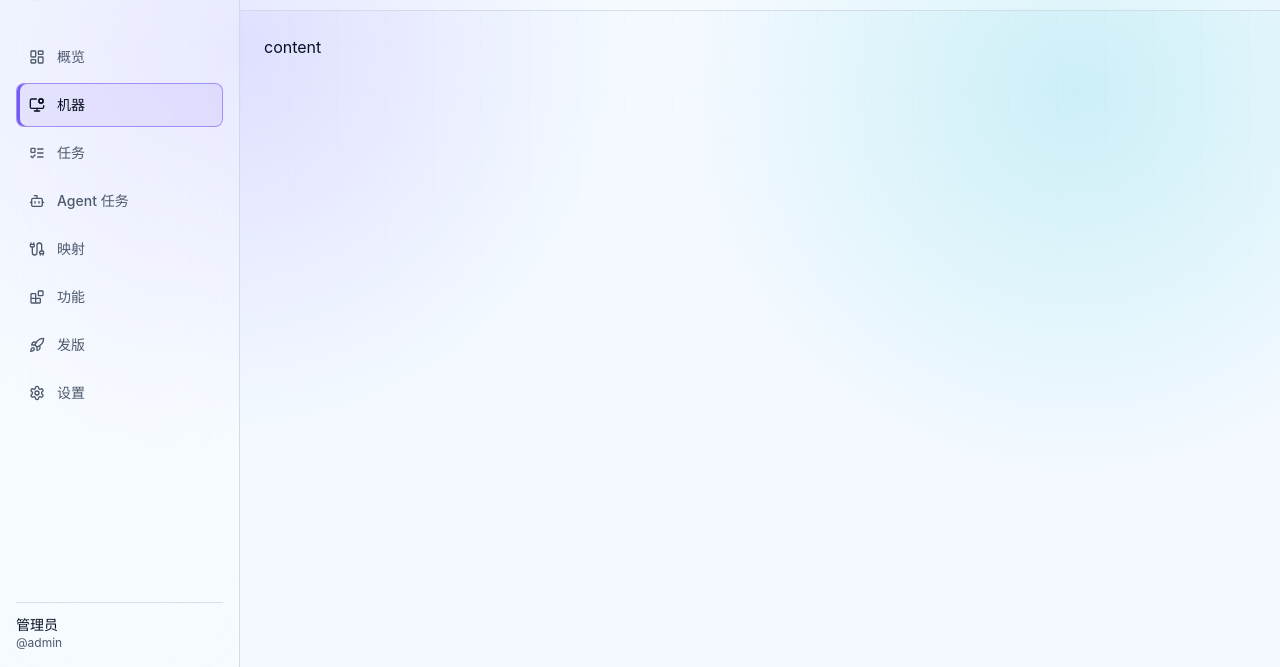
ConsoleShell › replaces level-one navigation with module sub-navigation and offers Back
What coordinates should you click on to do the following:
click the link "设置"
I would click on:
 (57, 392)
Its box is [29, 384, 85, 401].
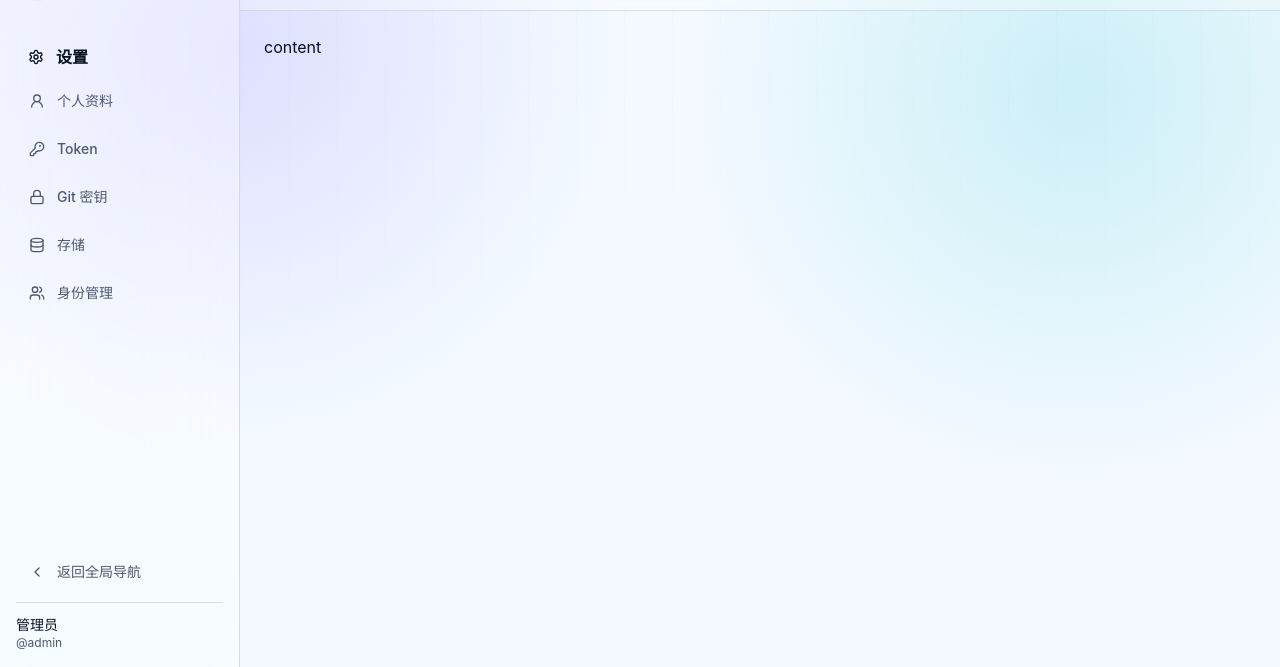
expect the navigation bar "主导航" is gone: met
expect the link "个人资料" is shown: met, box [29, 92, 113, 109]
expect the link "Token" is shown: met, box [29, 140, 98, 157]
What coordinates should you click on to do the following:
click the button with test id "sidebar-back"
I would click on:
 (120, 572)
Its box is [16, 550, 223, 594].
(page scrolled)
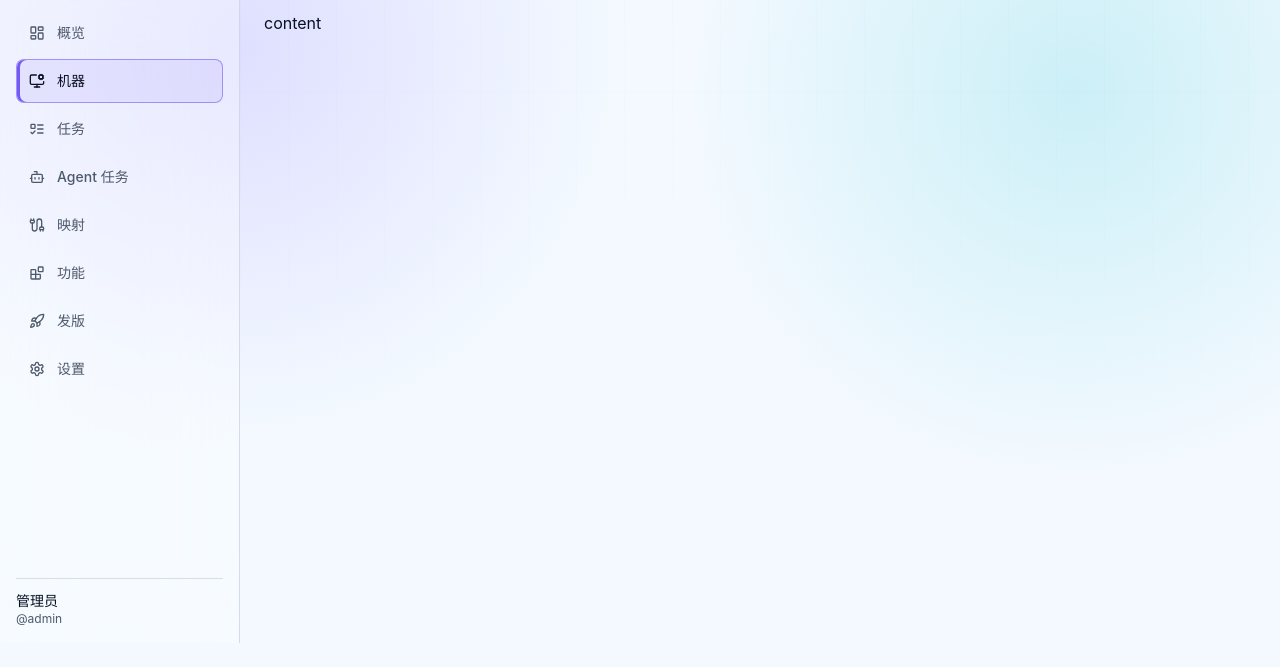
expect the button "返回全局导航" is gone: met
